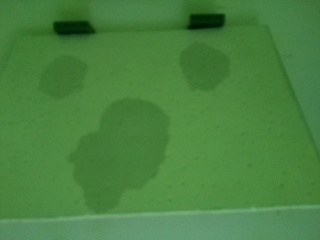Water_detected: (95, 106, 168, 193), (194, 55, 218, 82), (63, 69, 91, 89)
